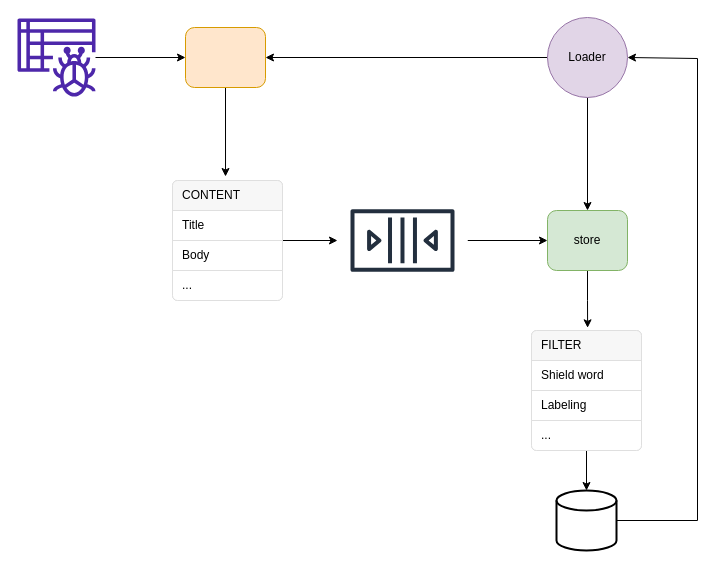
This 723x569 diagram has some shape labels left out. Each missing label, with the centre of its shape:
"crawler" belongs at point 225,57.
"Queue" belongs at point 402,240.
